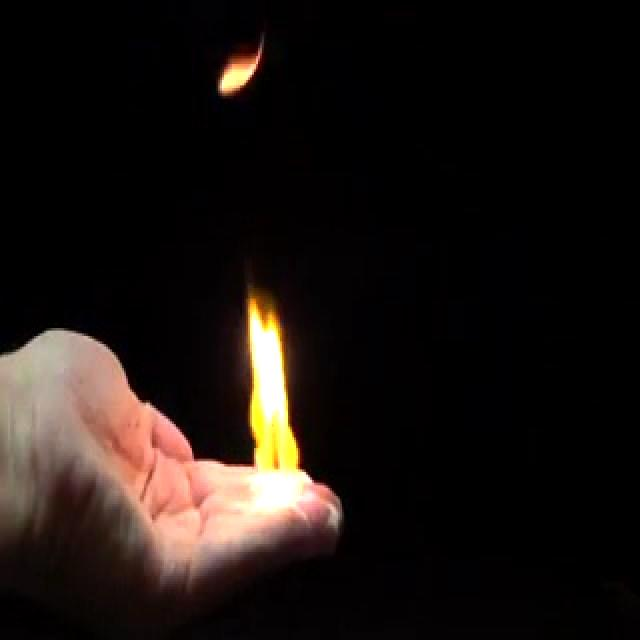fire: (239, 171, 305, 534)
